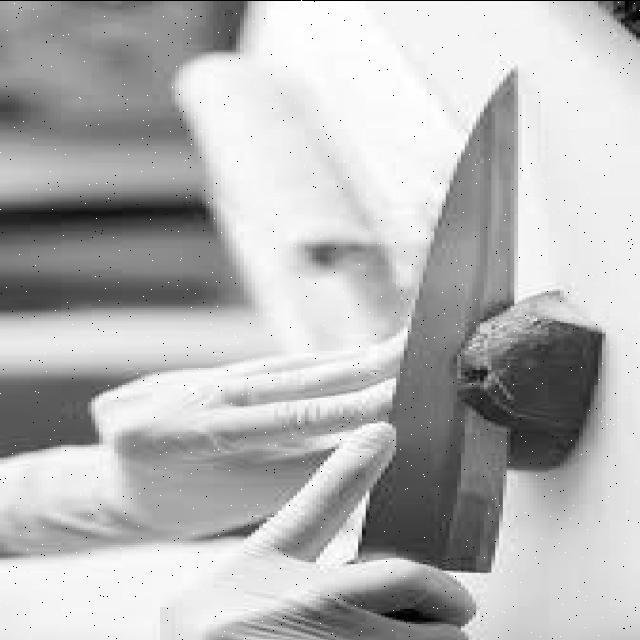apron: (126, 423, 466, 640), (0, 356, 377, 548)
